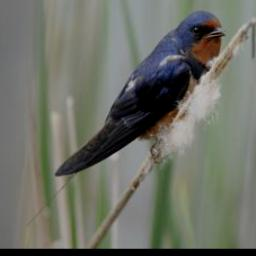Swallow: (54, 8, 228, 177)
